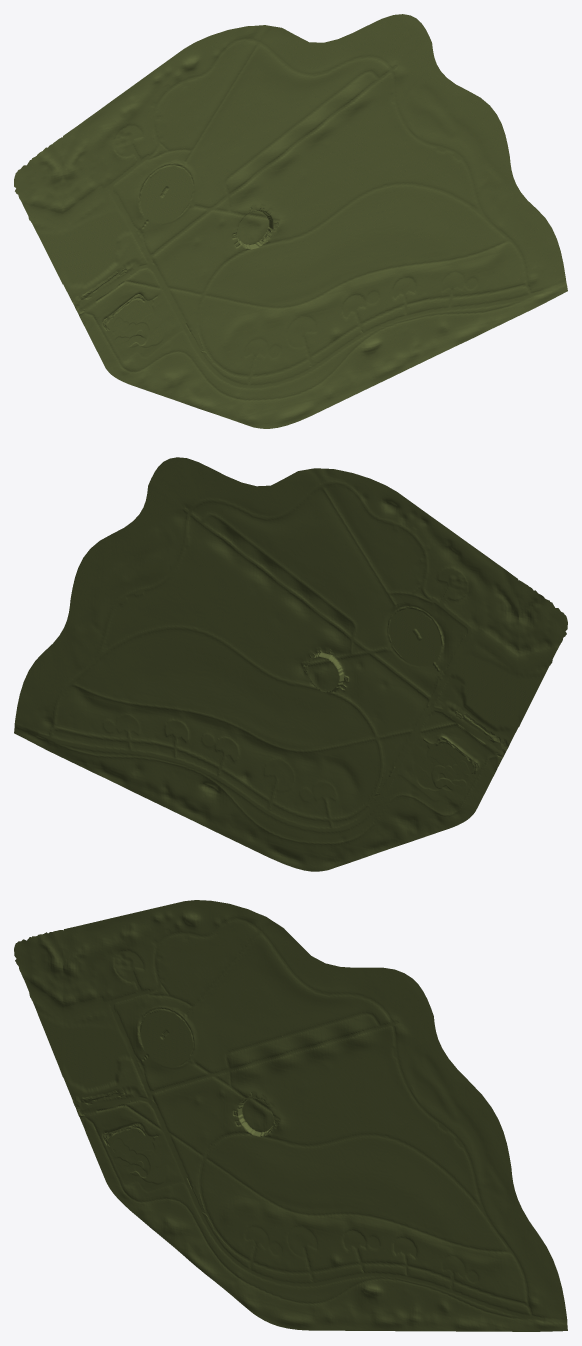
The model's file is baylands_terrain.glb.
3 renders of one model, top to bottom at view 1: azimuth 30°, elevation 25°; view 2: azimuth 150°, elevation 25°; view 3: azimuth 330°, elevation 25°, orthographic.
Parts seen in each view (by area): view 1: terrain; view 2: terrain; view 3: terrain.
Part boxes in pixels (x1,y1,x2,y2): terrain: (14,14,567,428); terrain: (14,457,567,871); terrain: (14,900,567,1331).
Bounding box in the file's own units: 782 × 553 × 10.41.
Materials: 1 (1 with a texture image).
